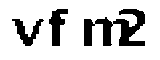2: (118, 4, 147, 51)
f: (45, 6, 74, 48)
m: (78, 16, 130, 52)
v: (9, 16, 43, 50)
